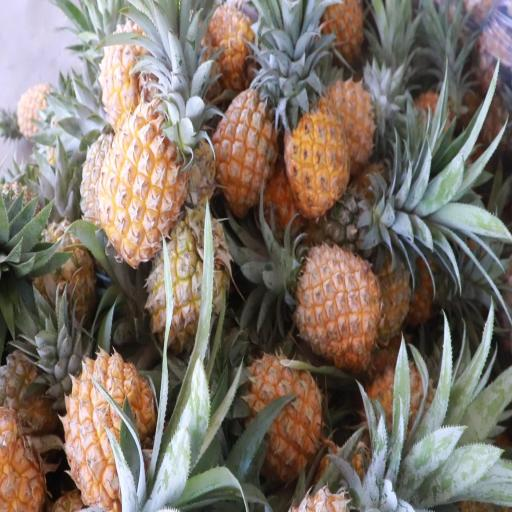------------------------------: (150, 214, 226, 344)
Pineapple - v8 v1: (67, 348, 152, 503), (101, 110, 185, 254), (292, 242, 376, 357), (244, 360, 326, 472), (212, 80, 282, 203), (284, 98, 350, 206), (98, 26, 162, 122)
